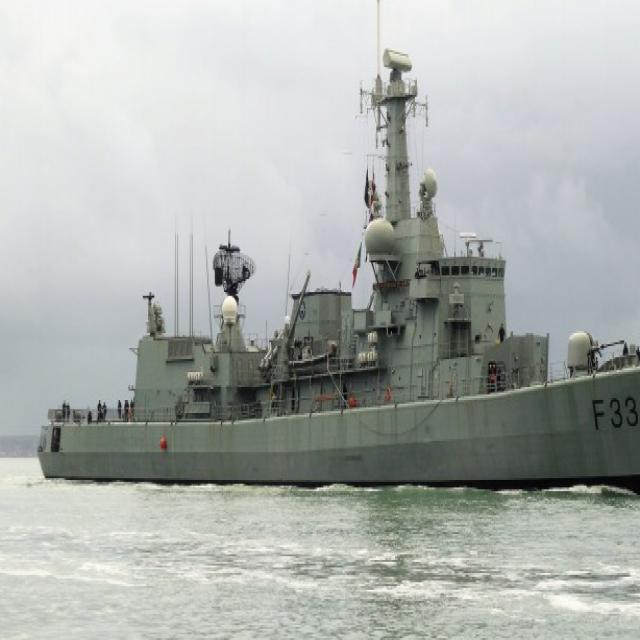Fragata: (40, 38, 640, 507)
